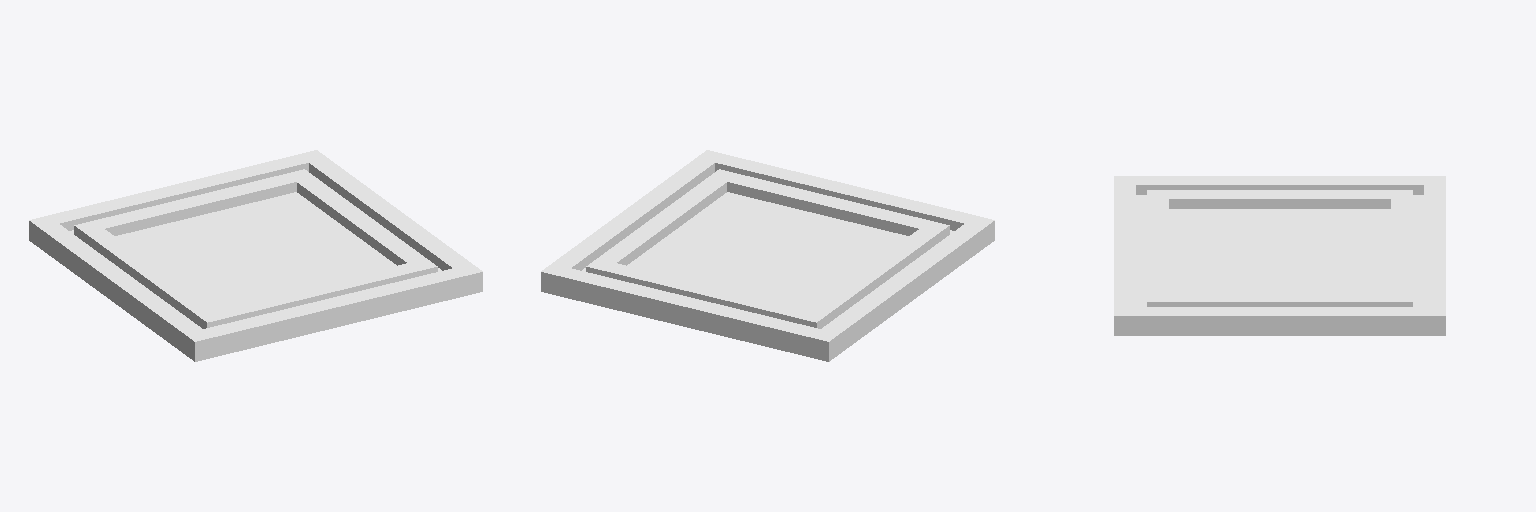
File: pressureplatebottom.obj
3 renders of one model, left to right at view 1: azimuth 30°, elevation 25°; view 2: azimuth 150°, elevation 25°; view 3: azimuth 270°, elevation 25°, orthographic.
Parts seen in each view (by area): view 1: object 1; view 2: object 1; view 3: object 1.
Part boxes in pixels (x1,y1,x2,y2): object 1: (29, 150, 482, 361); object 1: (541, 150, 994, 361); object 1: (1114, 176, 1445, 335).
Size of the model in its own units: 3 by 0.2 by 3.